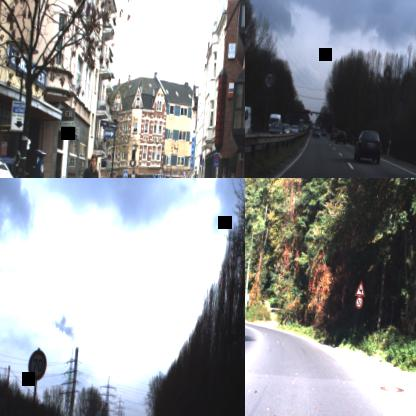bend left: (354, 278, 366, 297)
speed limit 50: (354, 295, 364, 308)
speed limit 70: (26, 348, 48, 381), (261, 68, 276, 91)
